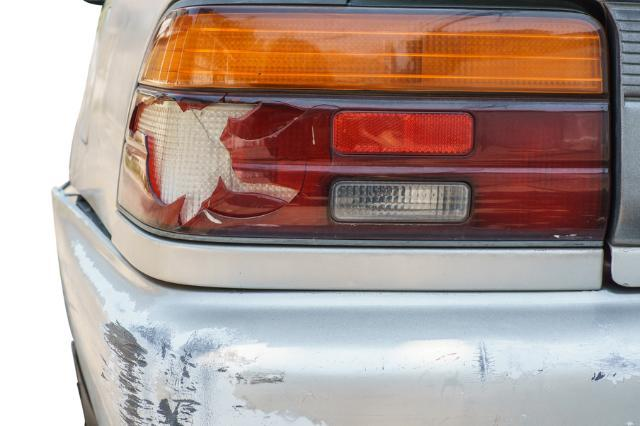Bumper: (68, 283, 640, 426)
Light: (119, 76, 362, 246)
